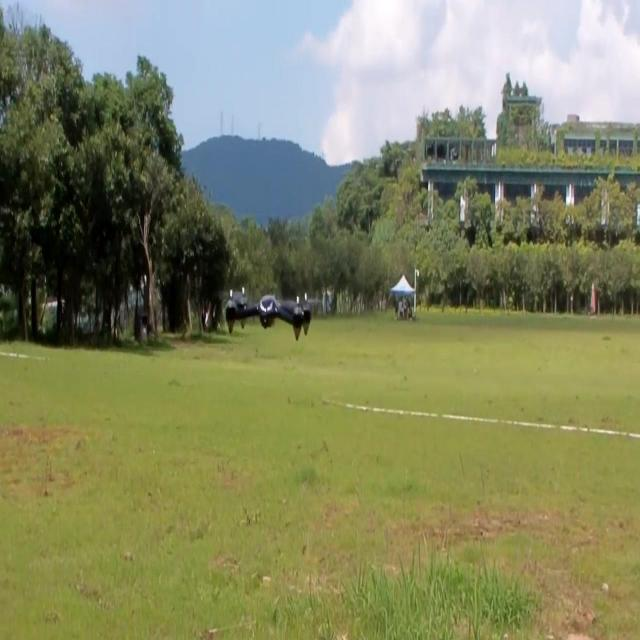UAV: (222, 284, 314, 342)
